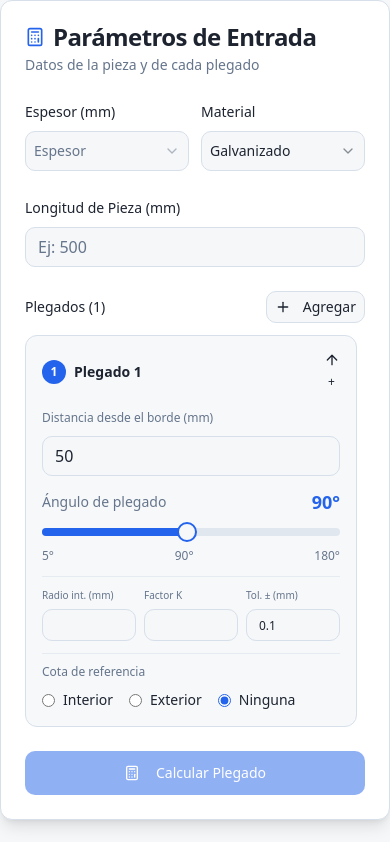
Test case: BendCalculator: procedencia manual de R/K › sin defaults exige R y K explícitos en cada pliegue y no copia el anterior
Earlier steps of the test are not shown.
Later steps or results of the test are not shown.
Click the dropdown labelled "Espesor" at (107,151), box [25,131,189,171]
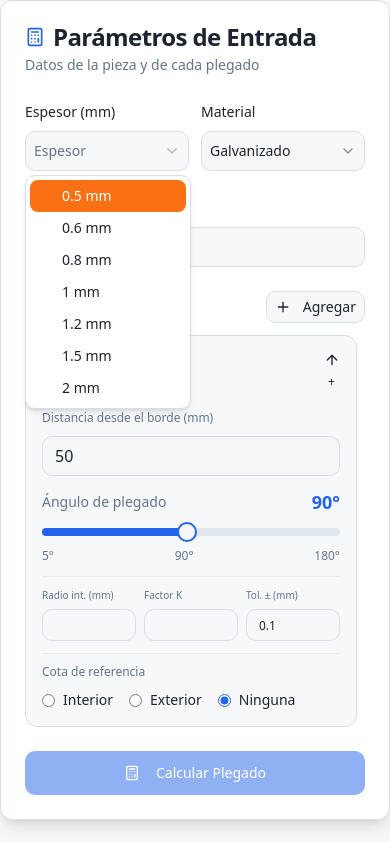
Click the option "2 mm" at (81,388), box [62,378,100,397]
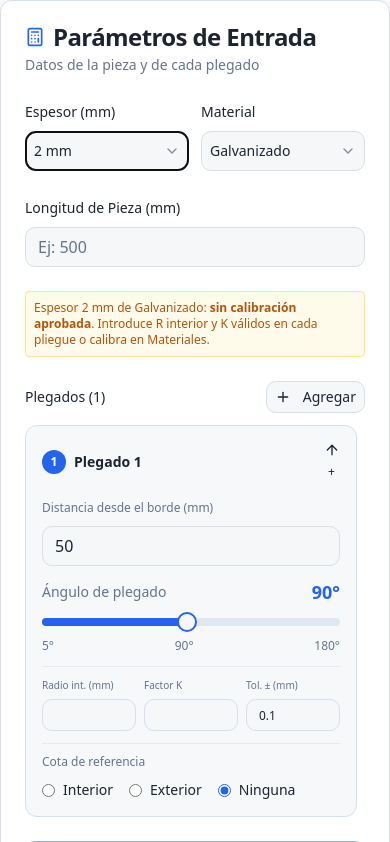
Type "100" into the number field with placeholder "Ej: 500" at (195,247), box [25,227,365,267]
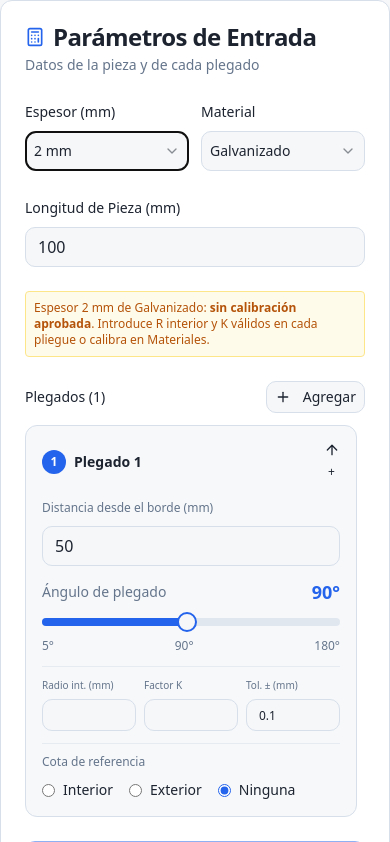
Type "1" into the number field named "Radio interior plegado 1" at (89,715), box [42,699,136,731]
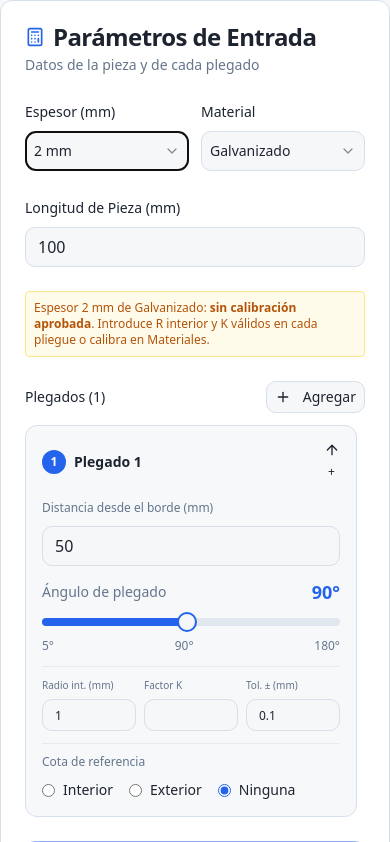
Type "0.4" into the number field named "Factor K plegado 1" at (191,715), box [144,699,238,731]
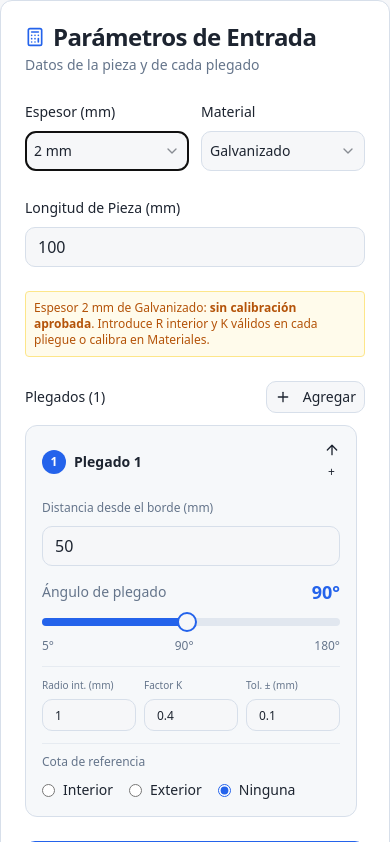
Click the button "Agregar" at (315,397), box [266,381,365,413]
(page scrolled)
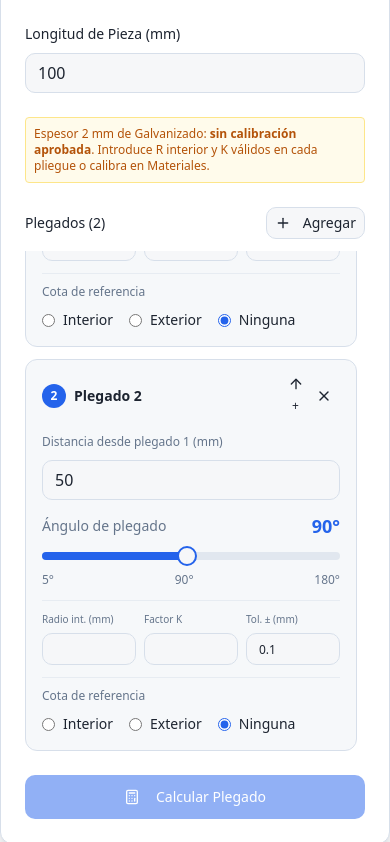
Now the button "Calcular Plegado" is disabled, box [25,775,365,819]
